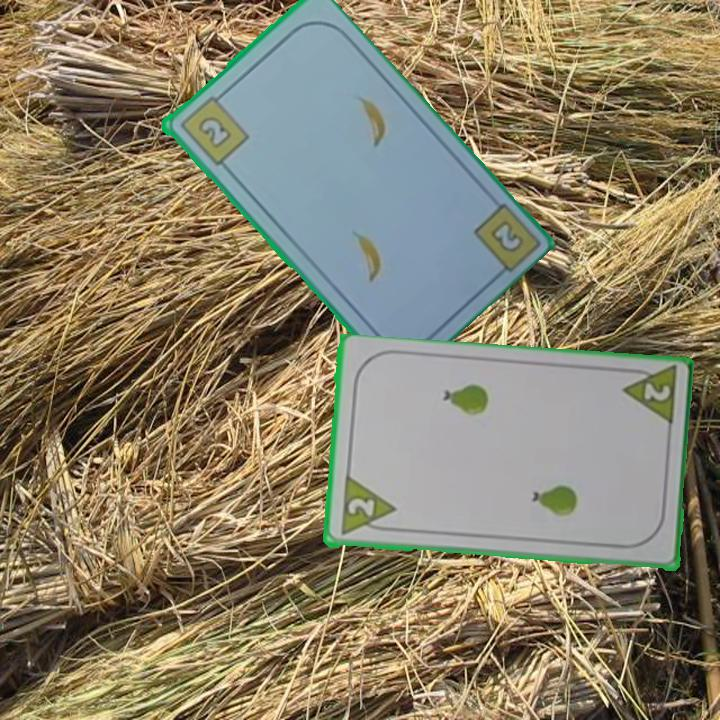2b: (176, 89, 251, 169), (486, 216, 526, 256)
2p: (618, 364, 680, 430), (337, 475, 398, 539)
